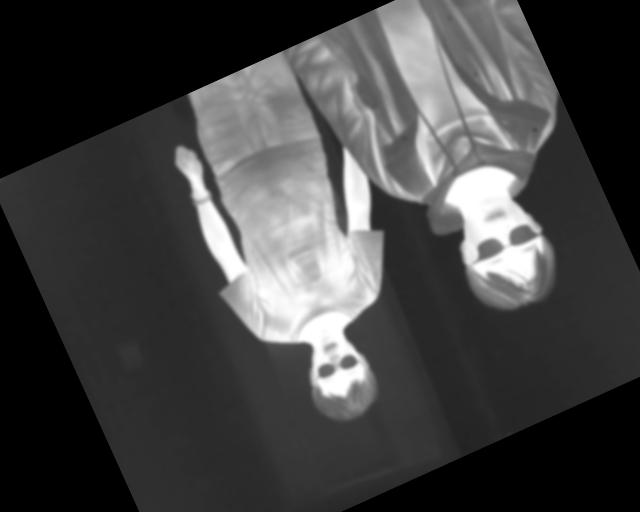face: (438, 180, 572, 326), (292, 322, 387, 431)
